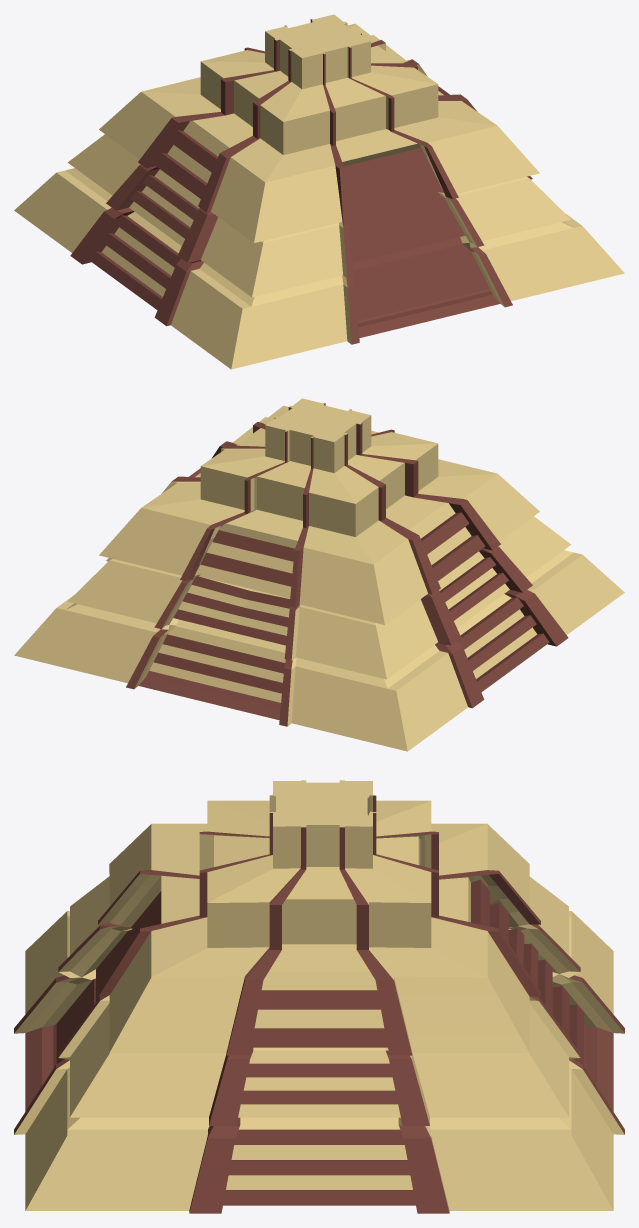
Rendered from fondos p1.fbx.
3 renders of one model, top to bottom at view 1: azimuth 30°, elevation 25°; view 2: azimuth 150°, elevation 25°; view 3: azimuth 270°, elevation 25°, orthographic. The views are drawn at different scales.
Parts seen in each view (by area): view 1: Cube.002; view 2: Cube.002; view 3: Cube.002.
Boxes of the visible parts, x1,y1,x2,y2 form: Cube.002: (14, 14, 624, 369); Cube.002: (14, 398, 624, 751); Cube.002: (14, 780, 624, 1213).
Bounding box in the file's own units: 287 × 141 × 279.
